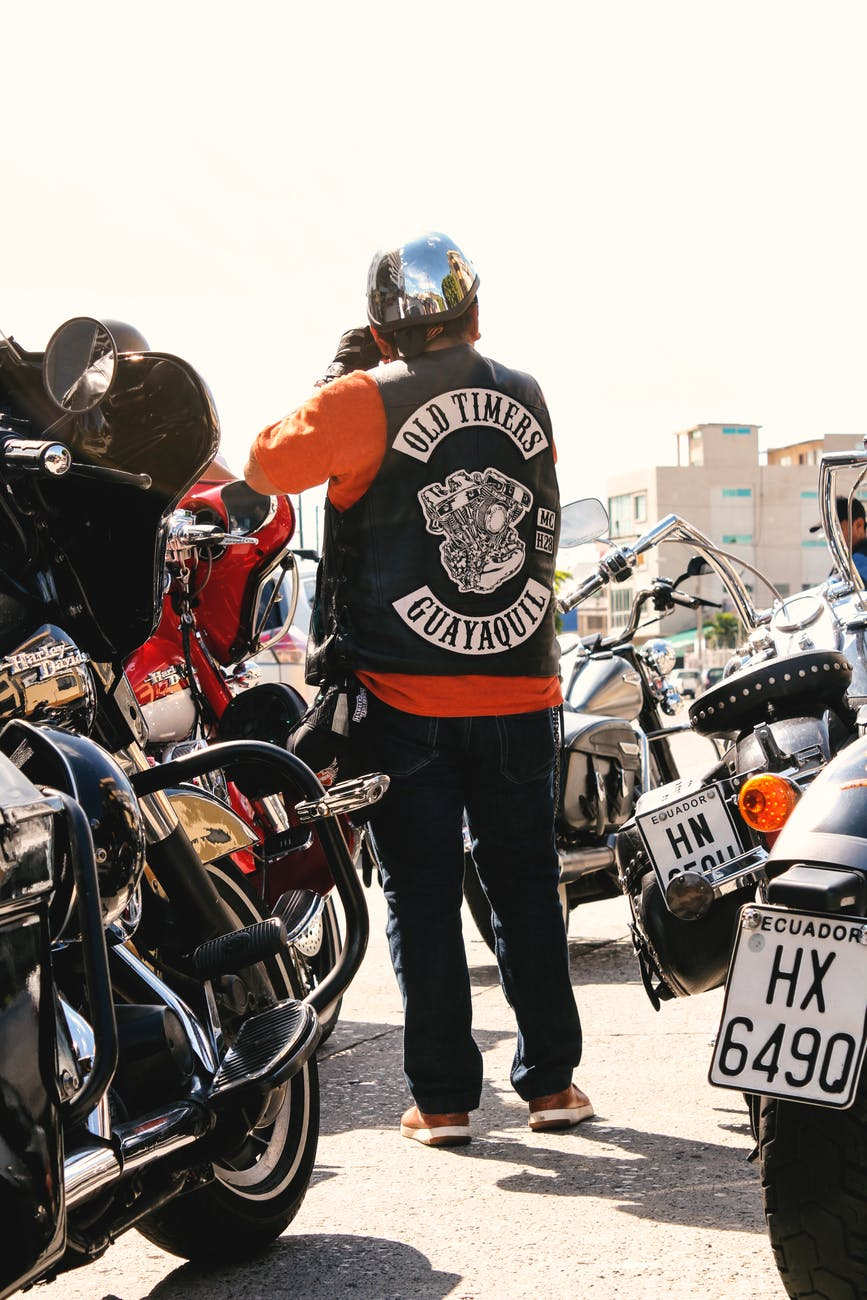helmet: (354, 247, 490, 331)
